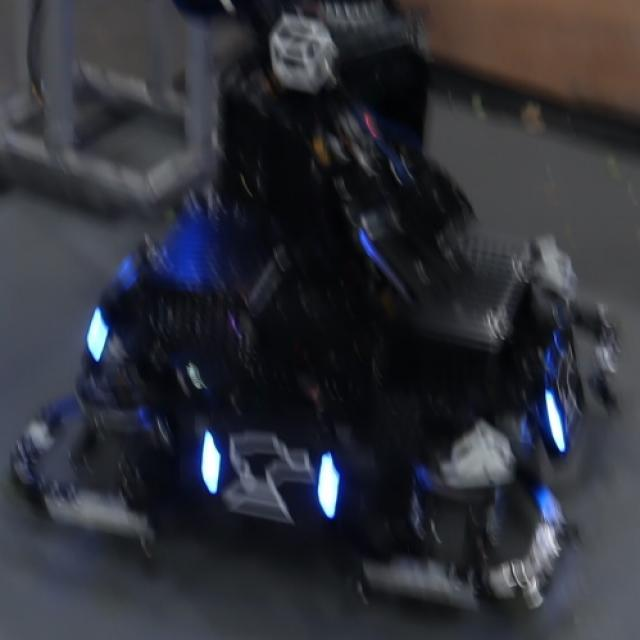Bs: (197, 426, 340, 524), (541, 330, 589, 460)
